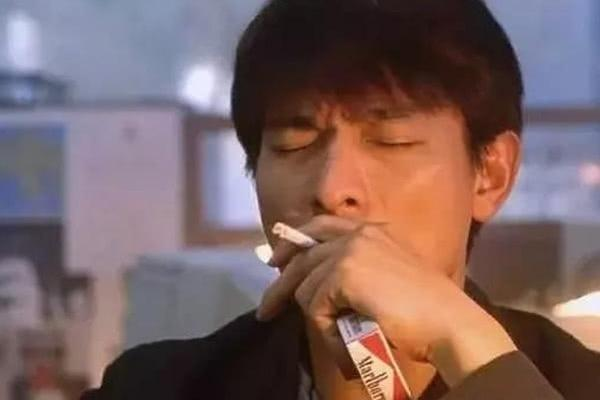smoking: (270, 221, 332, 263)
